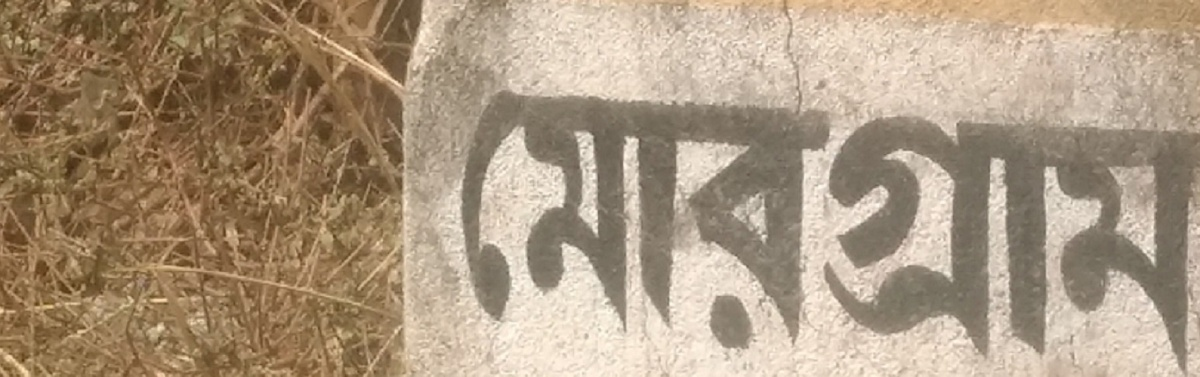text: (465, 87, 480, 375), (481, 87, 496, 375), (497, 87, 512, 375), (513, 87, 528, 375), (529, 87, 544, 375), (545, 87, 560, 375), (561, 87, 576, 375), (577, 87, 592, 375), (593, 87, 608, 375), (609, 87, 624, 375), (625, 87, 640, 375), (641, 87, 656, 375), (657, 87, 672, 375), (673, 87, 688, 375), (689, 87, 704, 375), (705, 87, 720, 375), (721, 87, 736, 375), (737, 87, 752, 375), (753, 87, 768, 375), (769, 87, 784, 375), (785, 87, 800, 375), (801, 87, 816, 375), (817, 87, 832, 375), (833, 87, 848, 375), (849, 87, 864, 375), (865, 87, 880, 375), (881, 87, 896, 375), (897, 87, 912, 375), (913, 87, 928, 375), (929, 87, 944, 375), (945, 87, 960, 375), (961, 87, 976, 375), (977, 87, 992, 375), (993, 87, 1008, 375), (1009, 87, 1024, 375), (1025, 87, 1040, 375), (1041, 87, 1056, 375), (1057, 87, 1072, 375), (1073, 87, 1088, 375), (1089, 87, 1104, 375), (1105, 87, 1120, 375), (1121, 87, 1136, 375), (1137, 87, 1152, 375), (1153, 87, 1168, 375), (1169, 87, 1184, 375), (1185, 87, 1199, 375)
